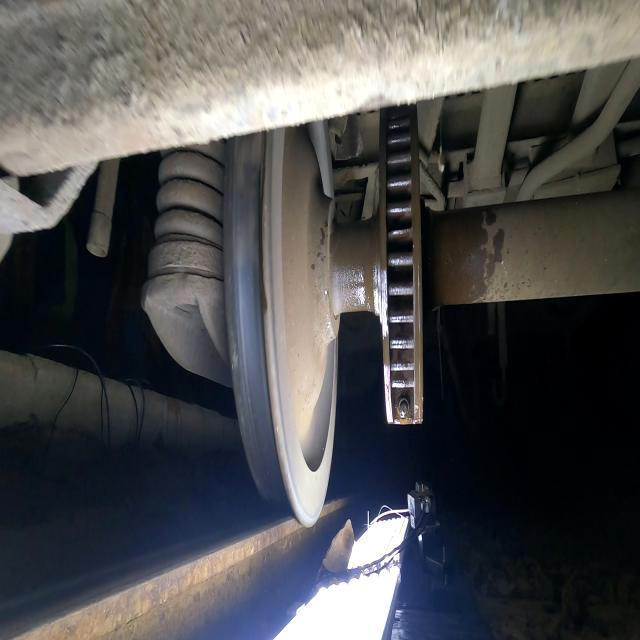Cracks-Scratches: (231, 328, 239, 373)
Shelling: (234, 136, 262, 184)
Wheel: (224, 127, 339, 527)
